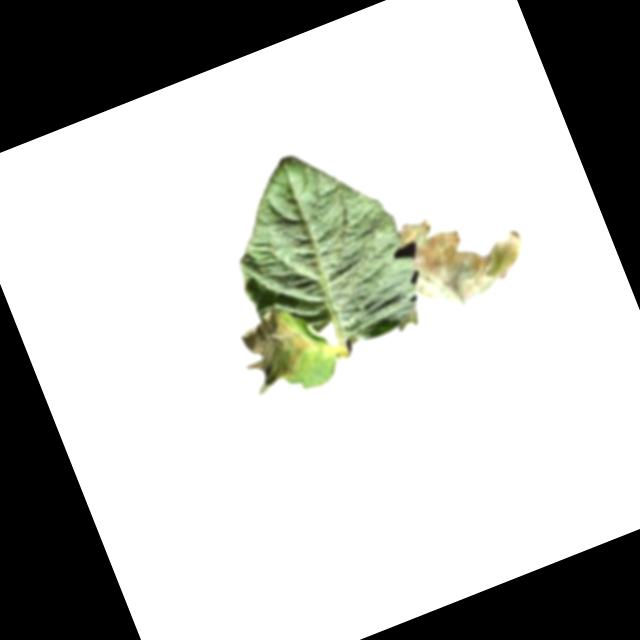Late_blight: (390, 186, 537, 322), (231, 302, 320, 396)
healthy: (203, 127, 434, 377)
